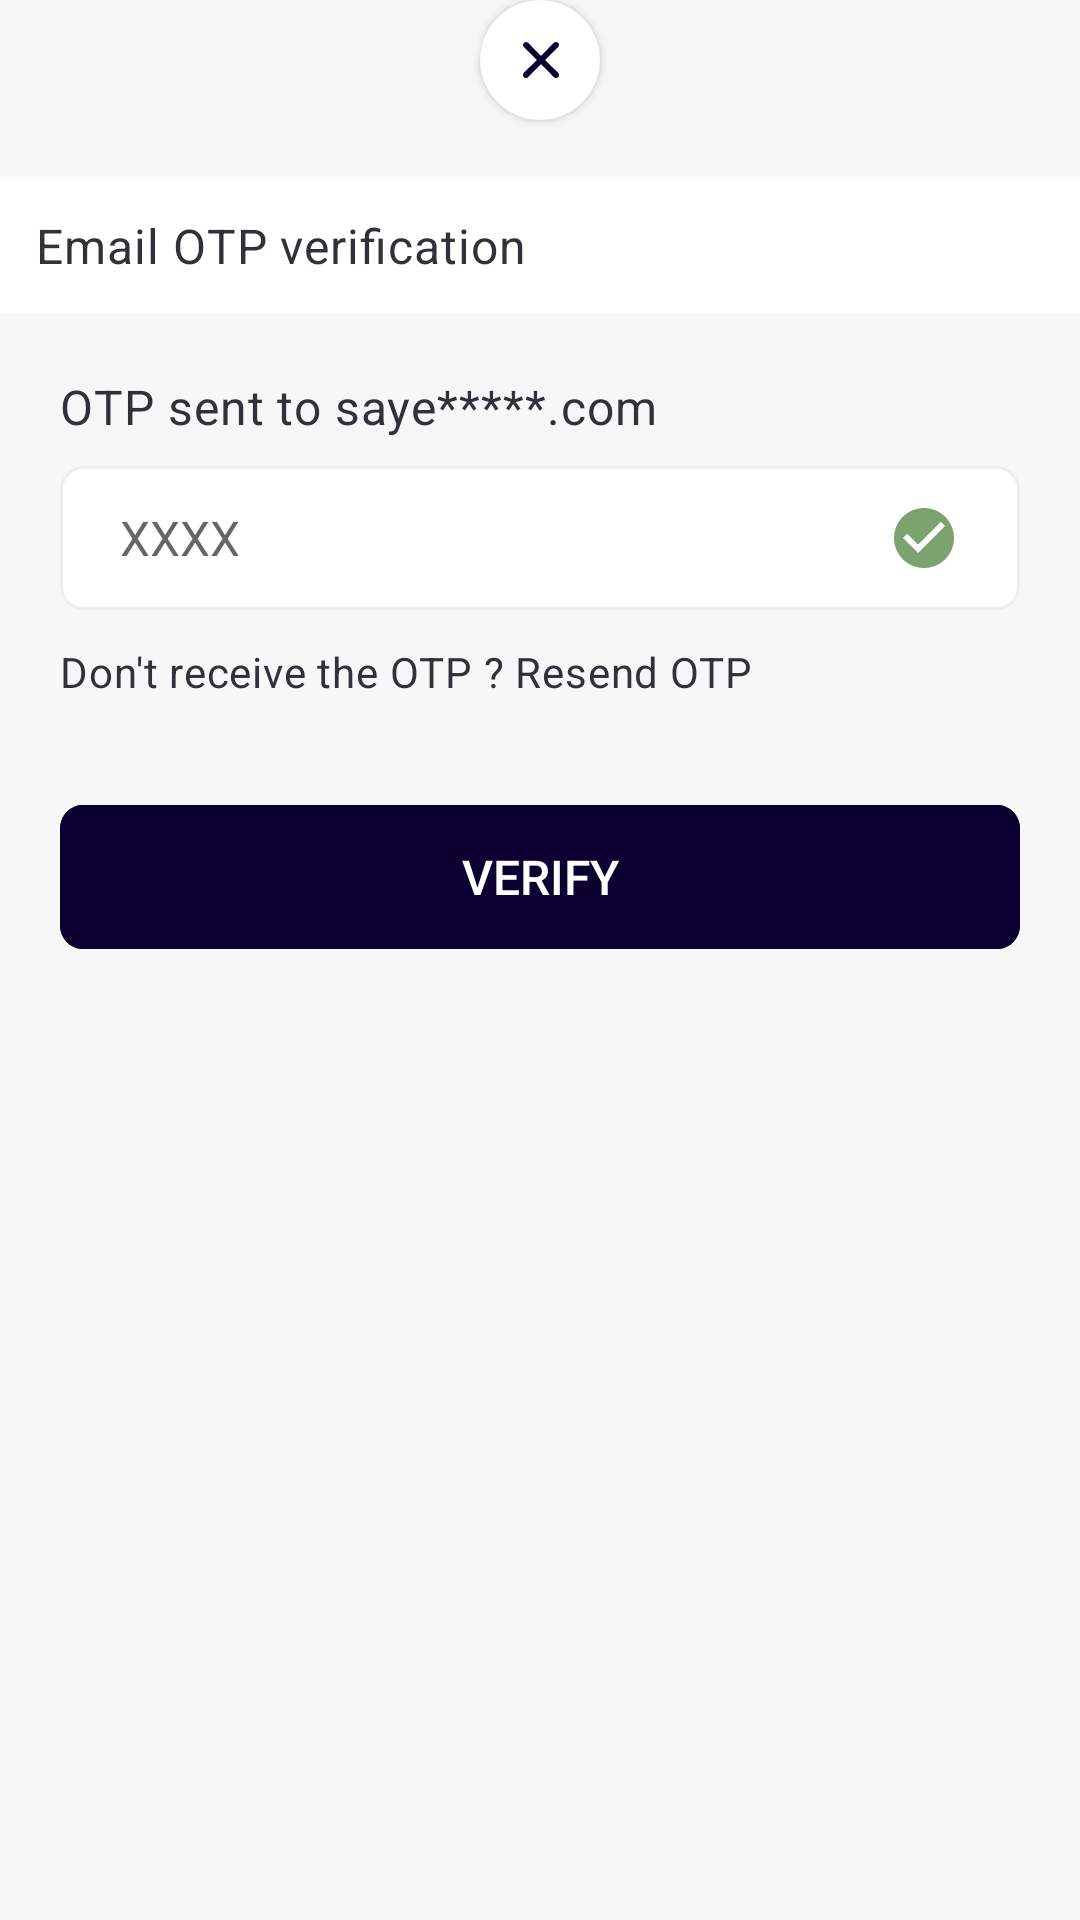

Locate icon controls on the screen. Image size 1080*1920, boxes as (x1,y1,x2,y2).
close dialog: (523,42,559,78)
otp verified: (894,508,954,568)
